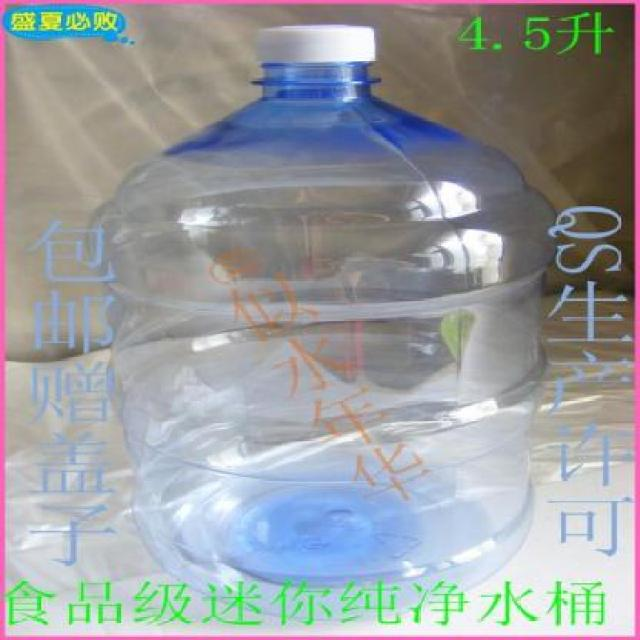coolerbottle: (82, 12, 560, 626)
